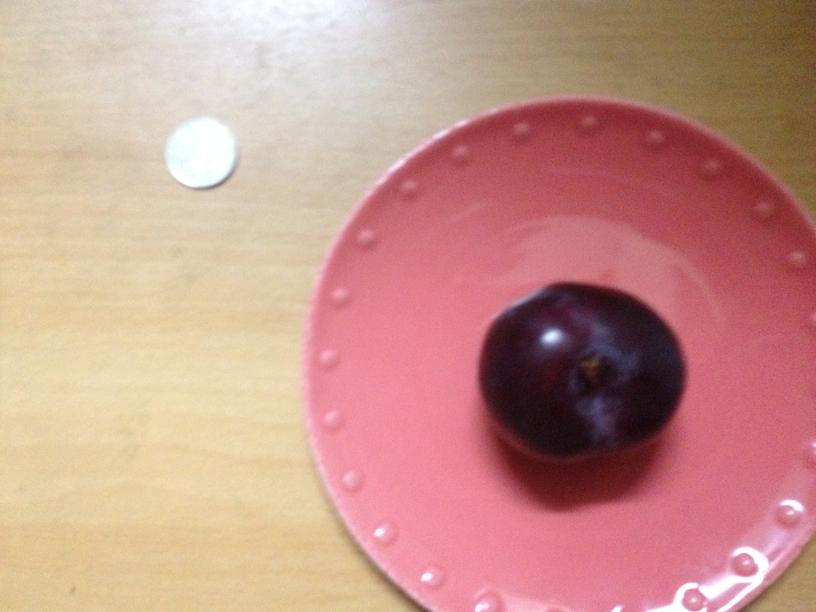coin: (160, 118, 240, 189)
plum: (478, 281, 683, 462)
